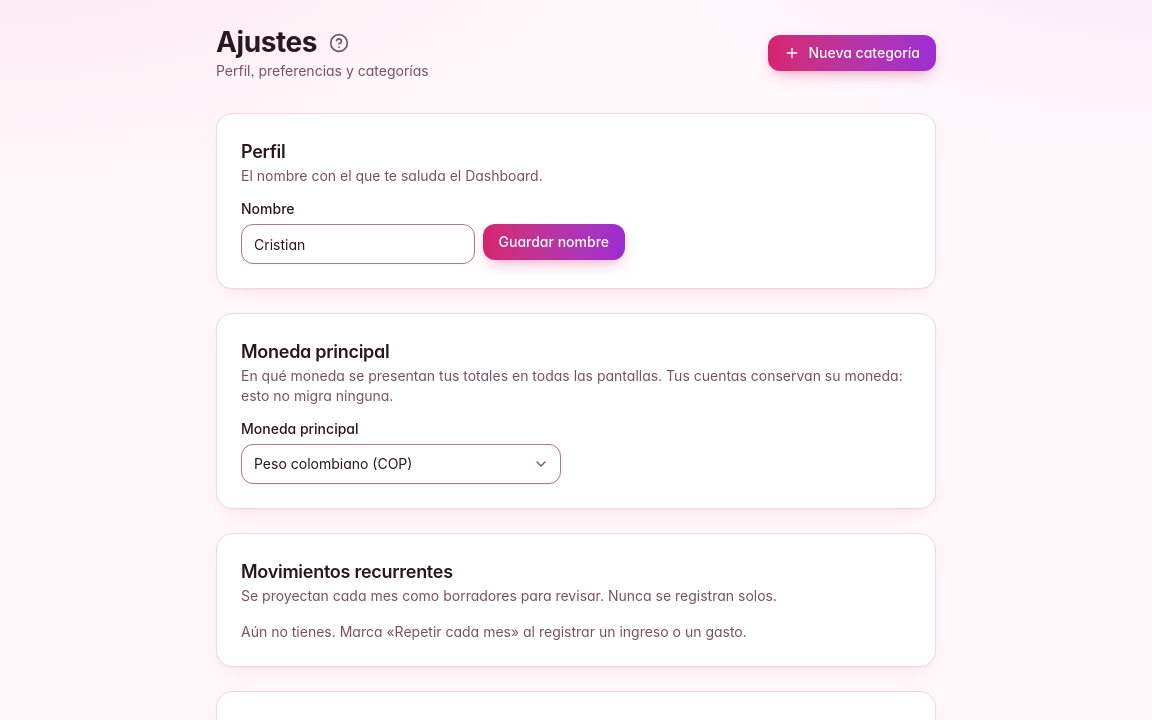
Test case: Settings — perfil (M16) › un nombre vacío no se guarda y dice por qué
Clear the field labelled "Nombre" at (358, 244), box [241,224,474,264]
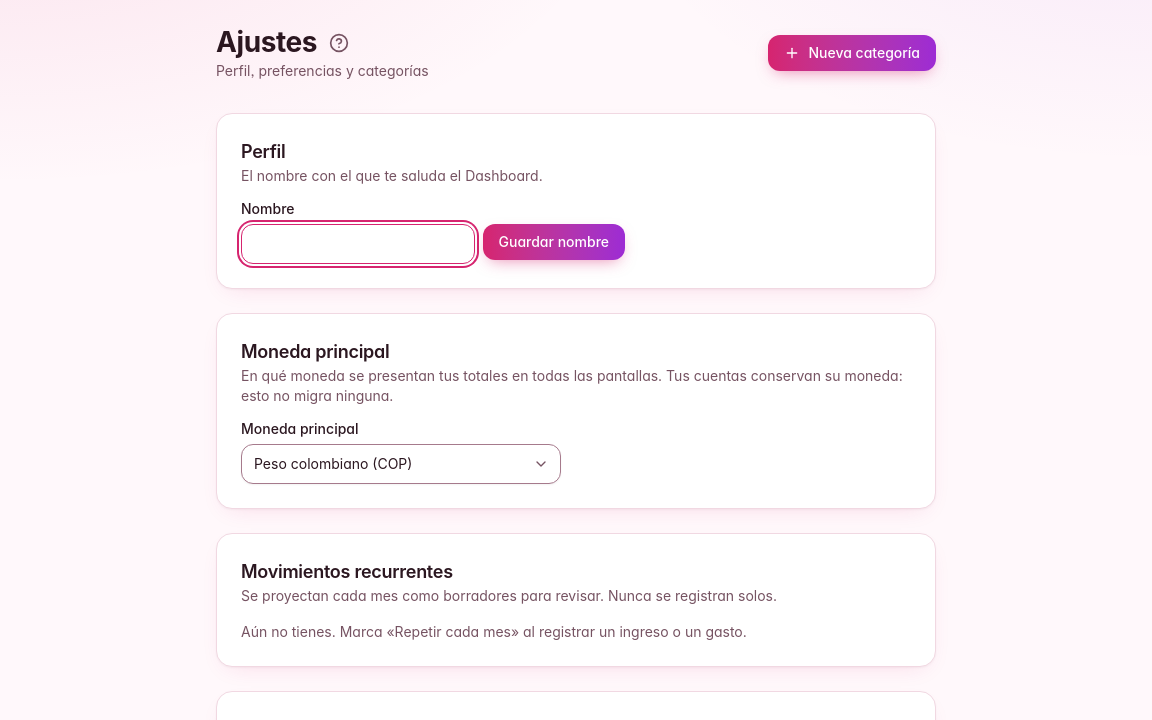
Click the button "Guardar nombre".
click(554, 242)  # box [482,224,625,260]
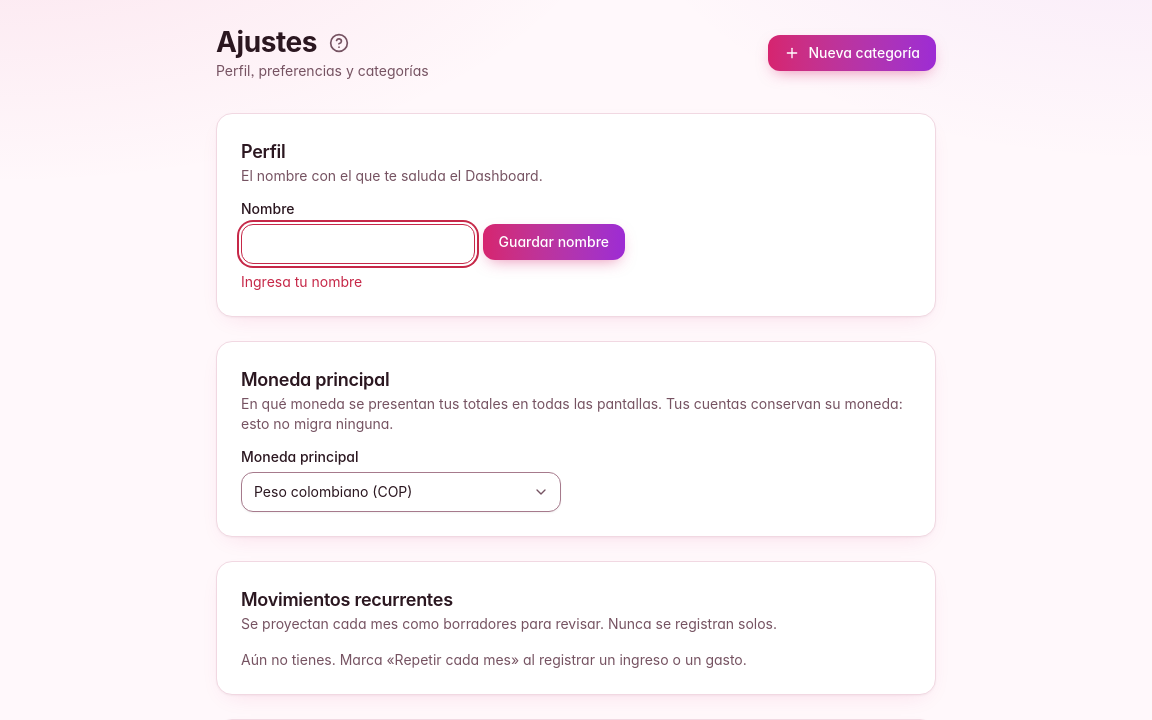
Expected: the text "Ingresa tu nombre" is shown, [241,273,362,290]
